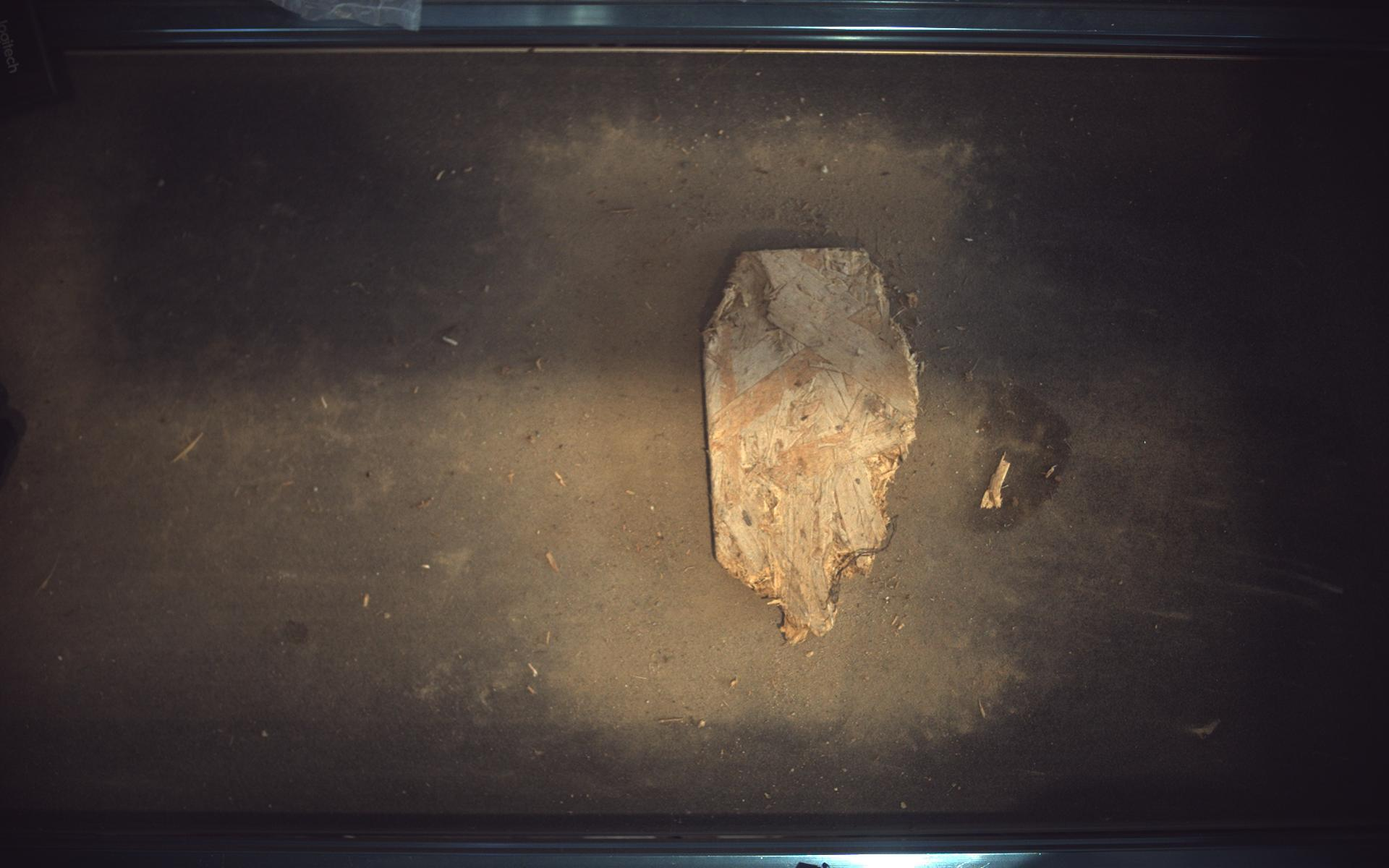wood: (704, 247, 921, 642)
